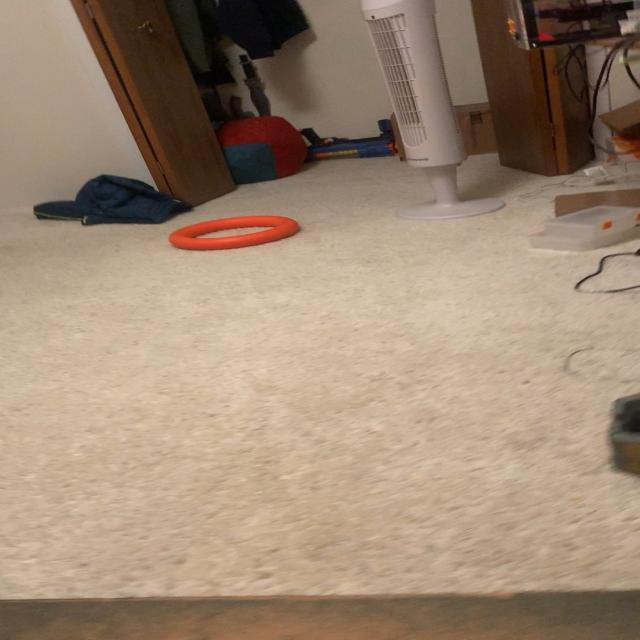notes: (170, 215, 298, 249)
